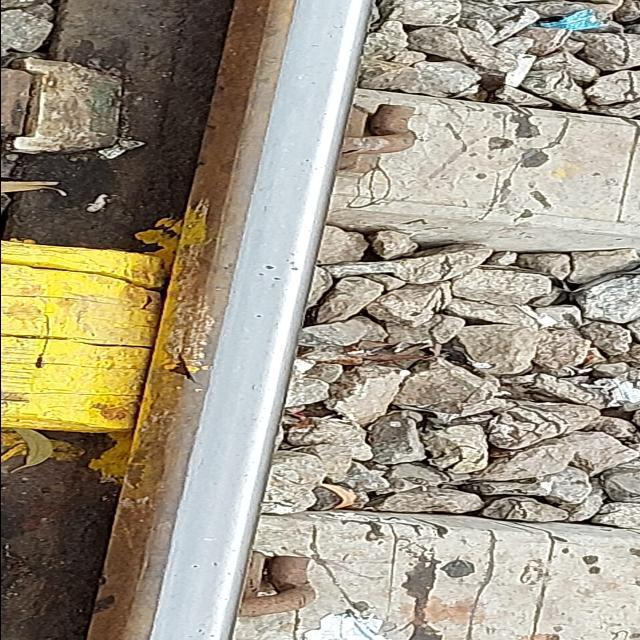head_checks_low: (231, 248, 307, 406), (156, 540, 240, 639), (252, 253, 297, 283), (264, 263, 276, 271), (254, 313, 264, 320)
